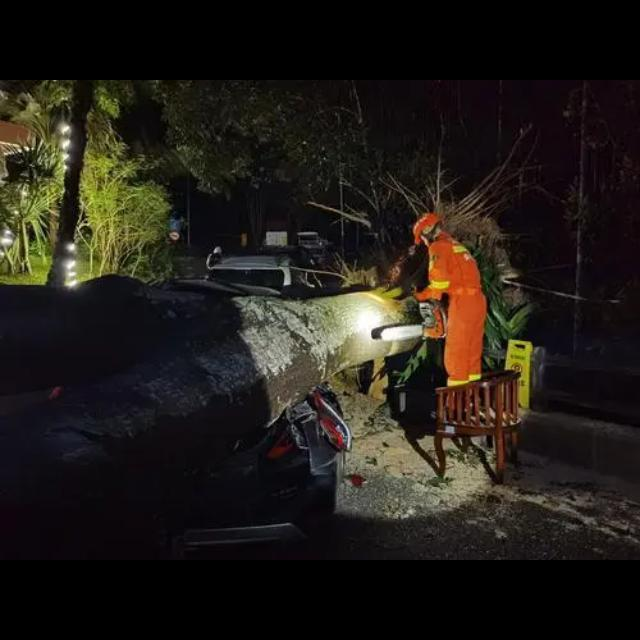fallen_tree: (11, 220, 516, 526)
